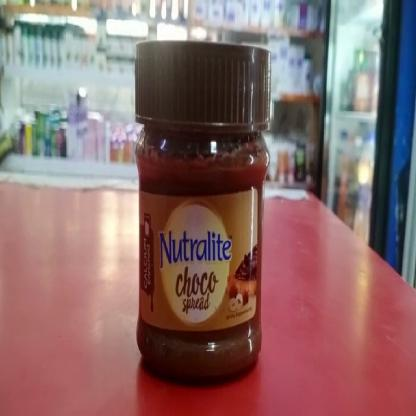Nutralite CHOCO SPREAD CALCIUM 275g: (136, 41, 270, 383)
